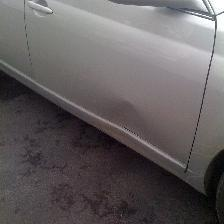dent: (128, 109, 143, 128)
